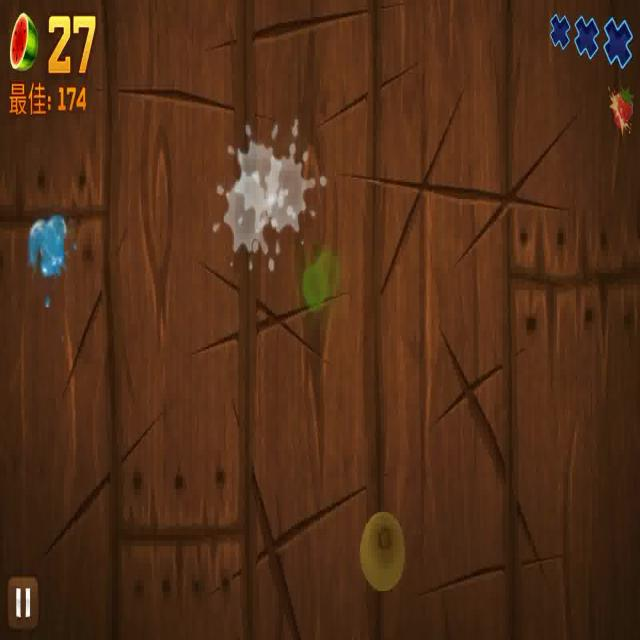fruit: (360, 510, 408, 591)
